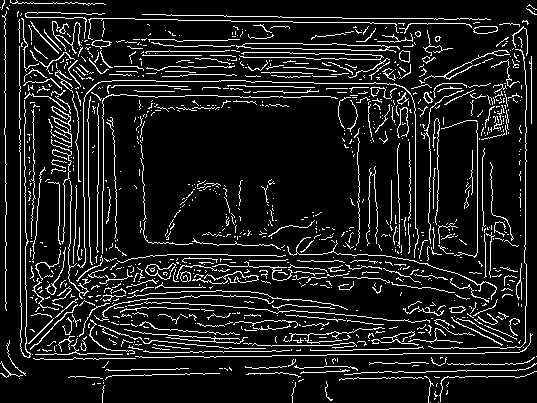cucumber: (60, 248, 504, 333)
